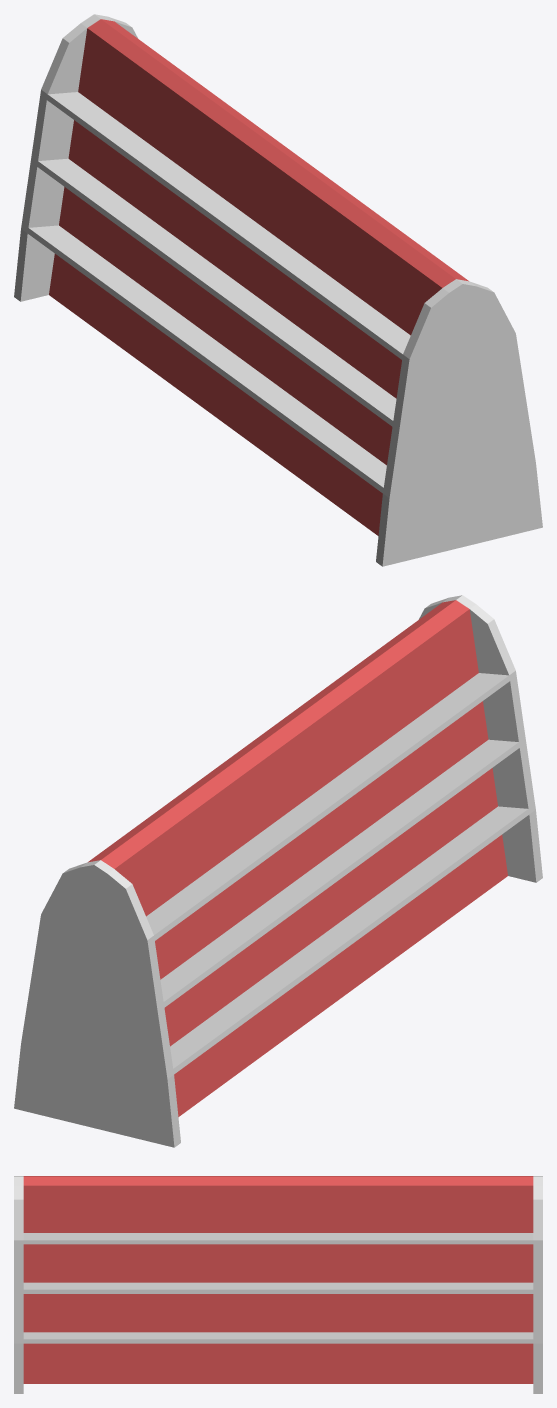
File: aisle_01.fbx
The picture shows the model from 3 angles, top to bottom: view 1: azimuth 30°, elevation 25°; view 2: azimuth 150°, elevation 25°; view 3: azimuth 270°, elevation 25°; orthographic projection. The views are drawn at different scales.
Parts seen in each view (by area): view 1: Aisle; view 2: Aisle; view 3: Aisle.
Part boxes in pixels (<box>): Aisle: <box>14,14,542,566</box>; Aisle: <box>14,595,542,1147</box>; Aisle: <box>14,1176,542,1393</box>.
Bounding box in the file's own units: 261 × 409 × 1037.
